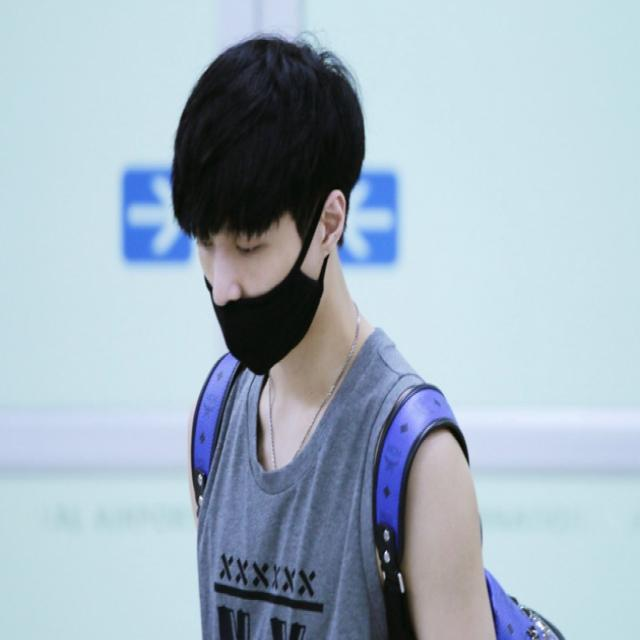mask: (198, 165, 316, 368)
